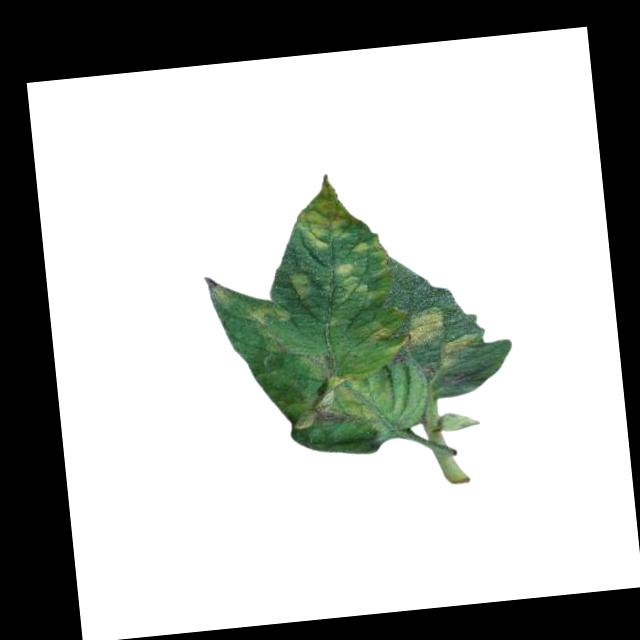Leaf_Mold: (292, 171, 363, 250), (404, 302, 481, 369), (331, 374, 388, 425), (251, 296, 297, 349), (336, 259, 372, 303), (359, 312, 399, 344)
